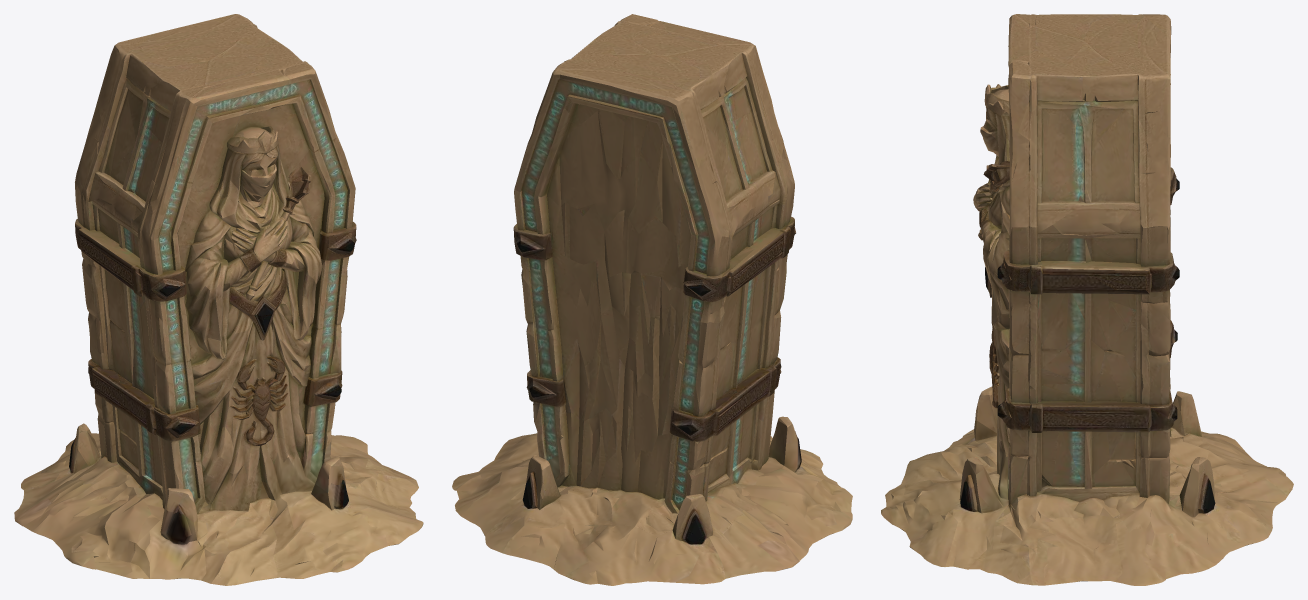
File: model.opt.c.glb
3 renders of one model, left to right at view 1: azimuth 30°, elevation 25°; view 2: azimuth 150°, elevation 25°; view 3: azimuth 270°, elevation 25°, orthographic.
Visible parts, largest first — view 1: Mesh_0; view 2: Mesh_0; view 3: Mesh_0.
Boxes of the visible parts, x1,y1,x2,y2 form: Mesh_0: [14, 14, 423, 585]; Mesh_0: [452, 14, 852, 585]; Mesh_0: [881, 14, 1293, 585].
Bounding box in the file's own units: 1.53 × 1.9 × 1.56.
Materials: 1 (1 with a texture image).
